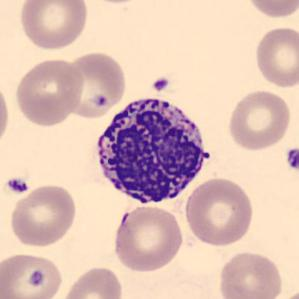Basophil: (88, 90, 216, 211)
Platelets: (23, 265, 48, 291), (5, 176, 30, 195), (283, 146, 299, 173), (150, 75, 171, 93), (90, 92, 108, 110)
RBC: (110, 202, 186, 274), (12, 56, 86, 128), (183, 175, 256, 247), (61, 48, 128, 120), (6, 182, 79, 248), (225, 87, 293, 152), (16, 0, 90, 52), (216, 248, 285, 299), (0, 250, 65, 298), (252, 24, 299, 89), (59, 263, 126, 299), (243, 0, 298, 20), (0, 78, 12, 151), (77, 0, 151, 6), (274, 286, 298, 299)
